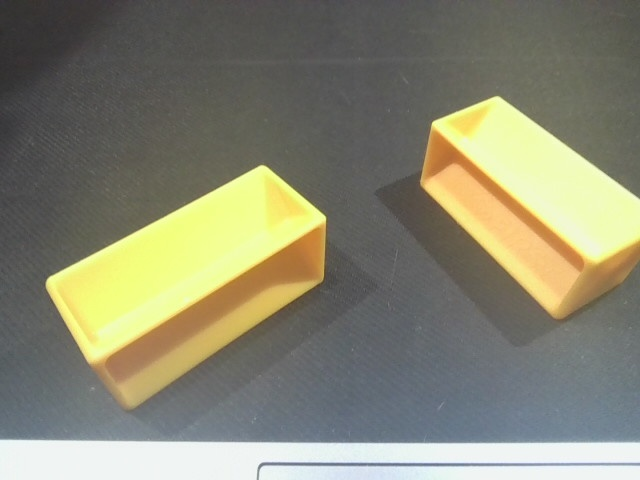YellowSample: (41, 162, 328, 414), (419, 93, 640, 323)
